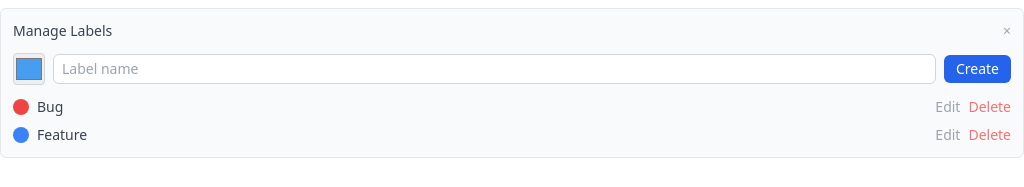
Test: LabelManager › enters edit mode showing name and color inputs
Click the button with aria-label "Edit Bug" at (948, 107), box x1=935 y1=97 x2=960 y2=117
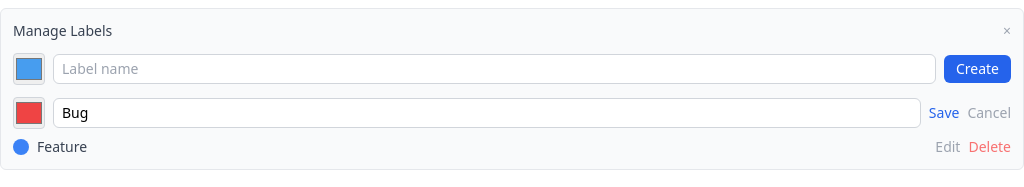
Now the field named "Edit label name" holds "Bug", box x1=53 y1=98 x2=921 y2=128
Now the colour field named "Edit label color" holds "#ef4444", box x1=13 y1=97 x2=45 y2=129
Now the button with aria-label "Save label" is shown, box x1=929 y1=103 x2=959 y2=123
